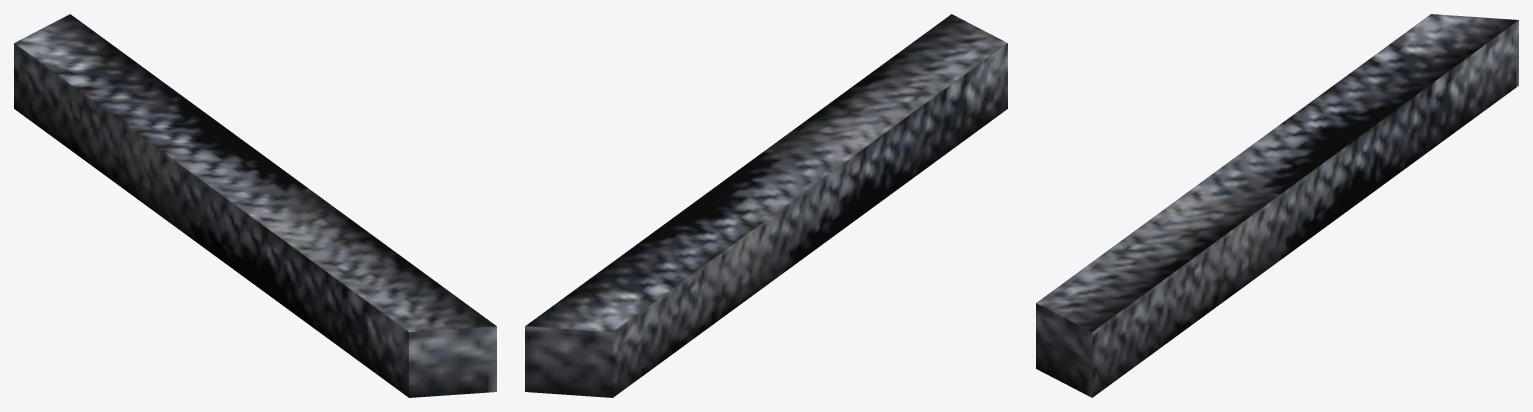
Rendered from GLA - Ground Vehicles - Quad Cannon - Damage State 4 - UVQuadCann_d4.glb.
3 views of the same model, side by side, from view 1: azimuth 30°, elevation 25°; view 2: azimuth 150°, elevation 25°; view 3: azimuth 330°, elevation 25° (orthographic).
Parts seen in each view (by area): view 1: UVQUADCANN_D4; view 2: UVQUADCANN_D4; view 3: UVQUADCANN_D4.
Part boxes in pixels (bbox=[...]): UVQUADCANN_D4: bbox=[14, 14, 496, 397]; UVQUADCANN_D4: bbox=[525, 14, 1007, 397]; UVQUADCANN_D4: bbox=[1036, 14, 1518, 397].
Bounding box in the file's own units: 1.54 × 1.34 × 15.82.
1 material, 1 textured.
